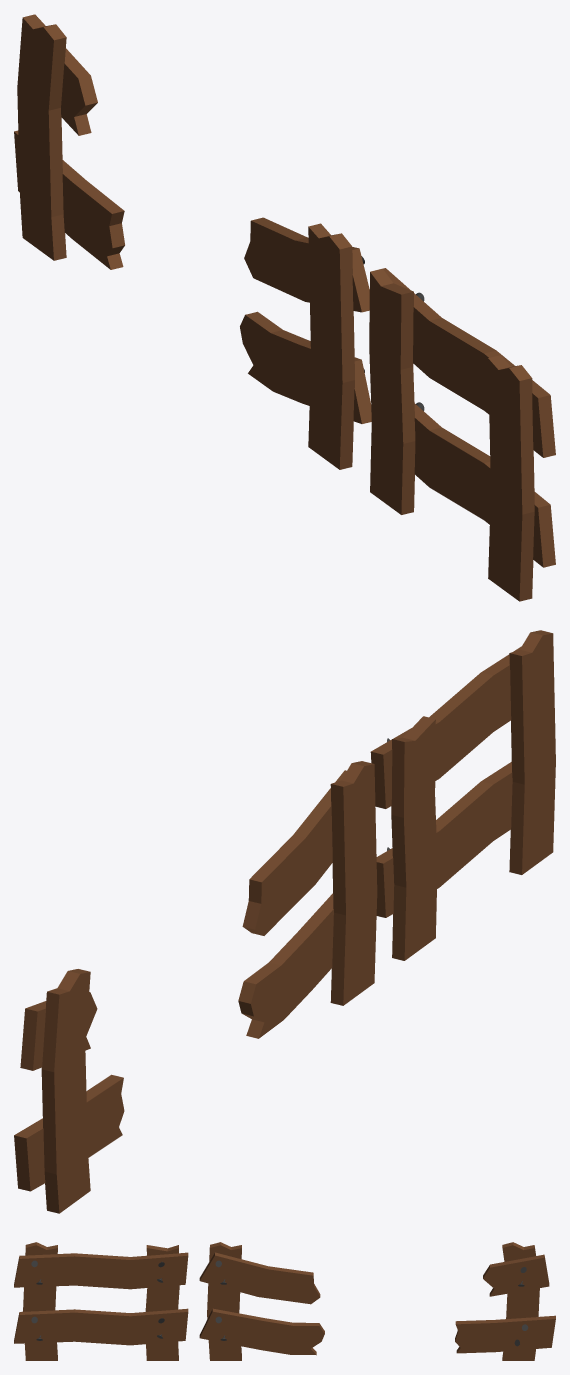
Rendered from Zabor.fbx.
3 renders of one model, top to bottom at view 1: azimuth 30°, elevation 25°; view 2: azimuth 150°, elevation 25°; view 3: azimuth 270°, elevation 25°, orthographic. The views are drawn at different scales.
Visible parts, largest first — view 1: Zabor1, ZaborL, ZaborR; view 2: Zabor1, ZaborL, ZaborR; view 3: Zabor1, ZaborL, ZaborR.
Boxes of the visible parts, box(x1,y1,x2,y2) form: Zabor1: box(369, 268, 555, 601); ZaborL: box(240, 217, 371, 469); ZaborR: box(14, 14, 124, 269); Zabor1: box(370, 630, 555, 960); ZaborL: box(238, 761, 377, 1038); ZaborR: box(14, 969, 124, 1213); Zabor1: box(14, 1242, 188, 1360); ZaborL: box(199, 1242, 324, 1360); ZaborR: box(455, 1242, 555, 1360).
Bounding box in the file's own units: 32.39 × 186 × 789.
